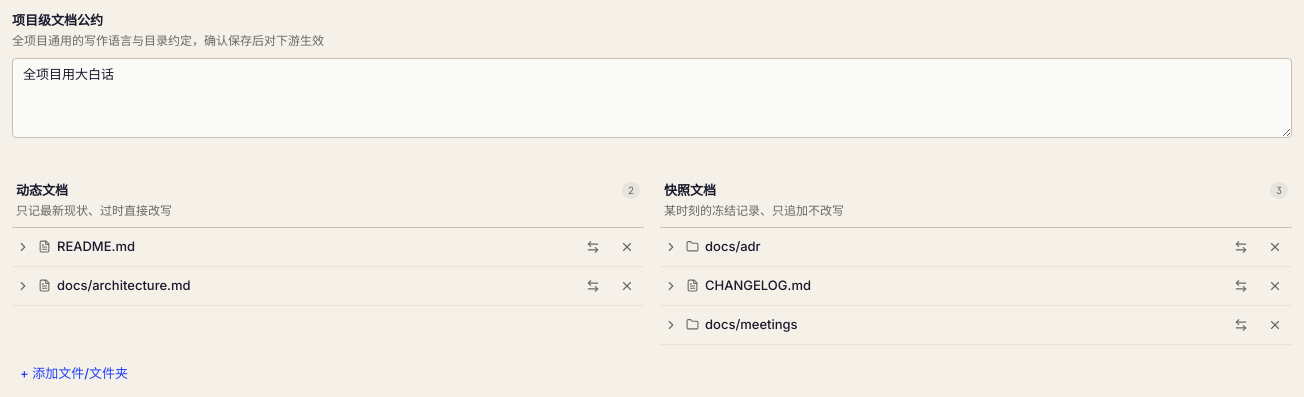
DocumentRegistryEditor · 两栏改判编辑器 › 点 ✕ 移出后两栏均不显示该行
Click the button named "移出 CHANGELOG.md" at (1275, 286), box [1262,273,1288,299]
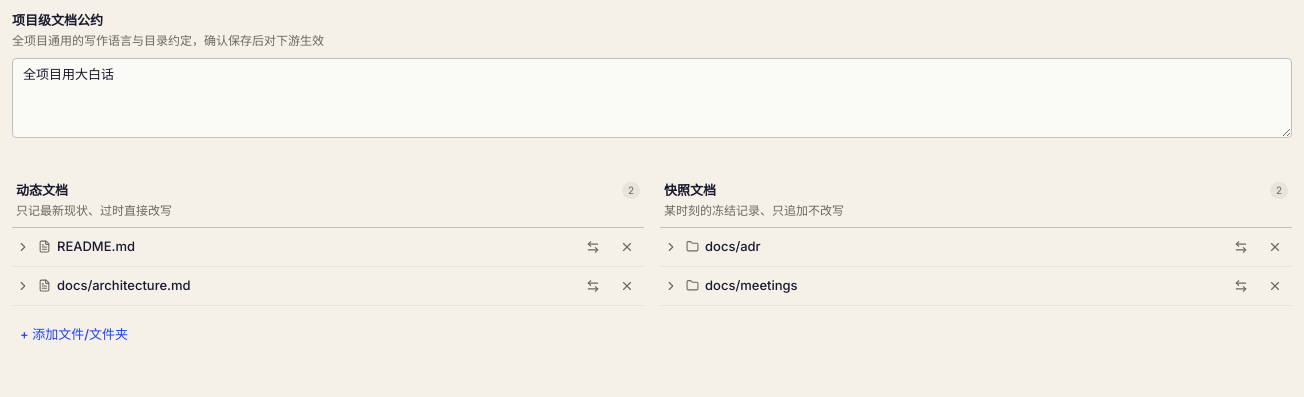
Result: the button "CHANGELOG.md" is gone
